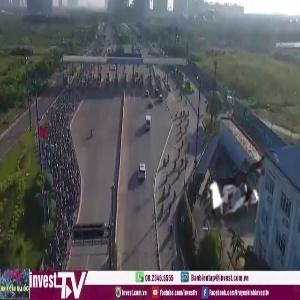drone: (197, 146, 286, 235)
